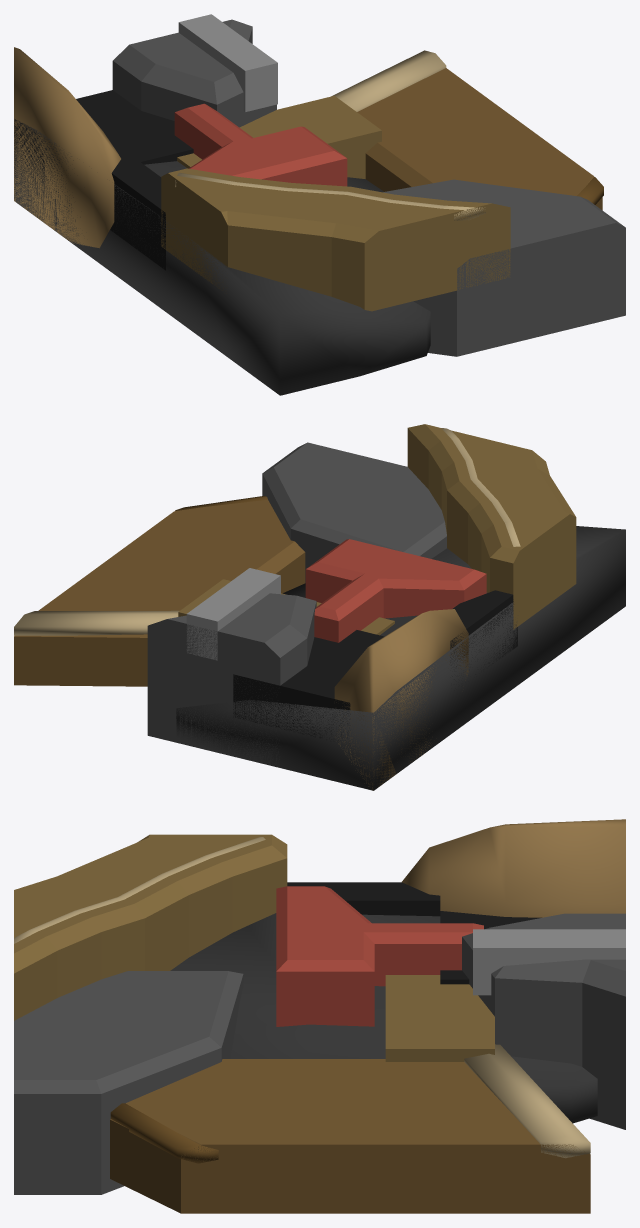
File: newsh4-54.glb
3 renders of one model, top to bottom at view 1: azimuth 30°, elevation 25°; view 2: azimuth 150°, elevation 25°; view 3: azimuth 270°, elevation 25°, orthographic. The views are drawn at different scales.
Parts seen in each view (by area): view 1: newsh4-54; view 2: newsh4-54; view 3: newsh4-54.
Boxes of the visible parts, x1,y1,x2,y2 form: newsh4-54: [14, 14, 625, 395]; newsh4-54: [14, 424, 625, 790]; newsh4-54: [14, 819, 625, 1213].
Bounding box in the file's own units: 2 × 0.7644 × 2.33.
